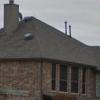Chimney: (1, 1, 24, 38)
